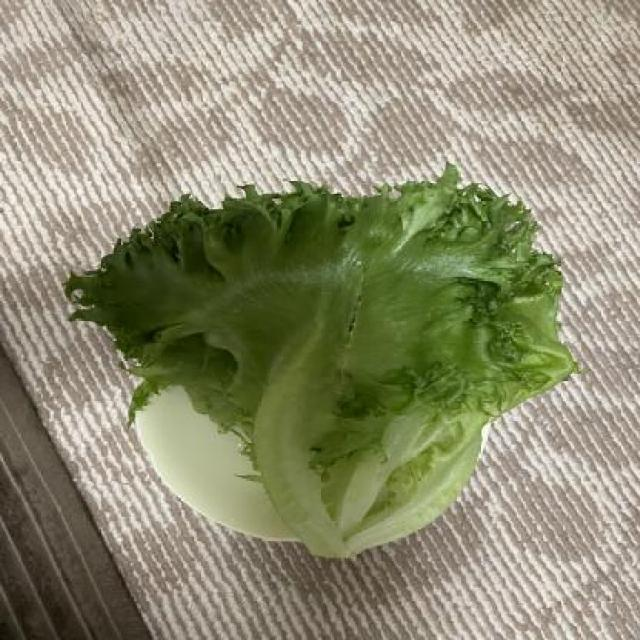Lettuce head: (64, 157, 580, 562)
